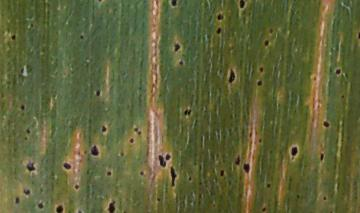tarspot: (169, 165, 178, 188), (105, 199, 116, 213), (227, 68, 236, 84), (89, 144, 100, 157), (290, 145, 299, 160), (158, 154, 167, 168), (242, 162, 251, 174), (26, 161, 35, 171), (54, 204, 64, 213), (234, 154, 241, 166), (63, 162, 72, 171), (100, 124, 108, 134), (22, 188, 31, 196), (216, 13, 224, 22), (238, 1, 246, 10), (215, 25, 222, 35), (164, 153, 172, 161), (322, 120, 330, 128), (319, 152, 325, 162), (105, 169, 112, 177), (256, 79, 263, 87), (174, 43, 180, 52), (188, 108, 193, 118), (10, 34, 17, 41), (19, 104, 26, 111), (37, 202, 44, 209), (128, 137, 135, 144), (118, 151, 125, 158), (14, 196, 20, 204), (219, 169, 225, 177), (183, 108, 188, 117), (25, 127, 31, 134), (95, 89, 101, 96), (74, 183, 80, 190), (187, 175, 193, 182), (335, 68, 341, 75), (260, 206, 266, 213), (312, 74, 318, 81), (295, 193, 301, 200), (79, 34, 85, 40), (178, 59, 184, 65), (171, 1, 177, 7), (139, 169, 144, 176), (259, 66, 264, 73), (264, 39, 269, 46), (133, 126, 138, 132), (137, 130, 143, 135), (156, 197, 162, 202), (322, 195, 327, 201), (269, 27, 274, 33), (340, 94, 346, 99), (266, 182, 271, 187), (357, 32, 360, 40), (76, 209, 83, 212), (30, 23, 34, 28), (24, 136, 28, 141), (258, 138, 262, 143), (123, 211, 129, 212)
